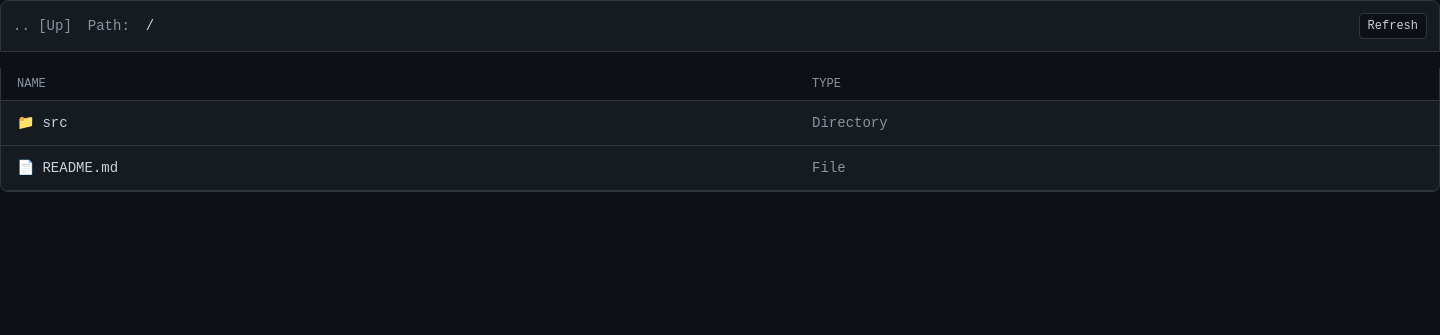
it: FileBrowser › loads and displays file content when a file is selected
Click the text "README.md": click(80, 168) [42,158,118,178]
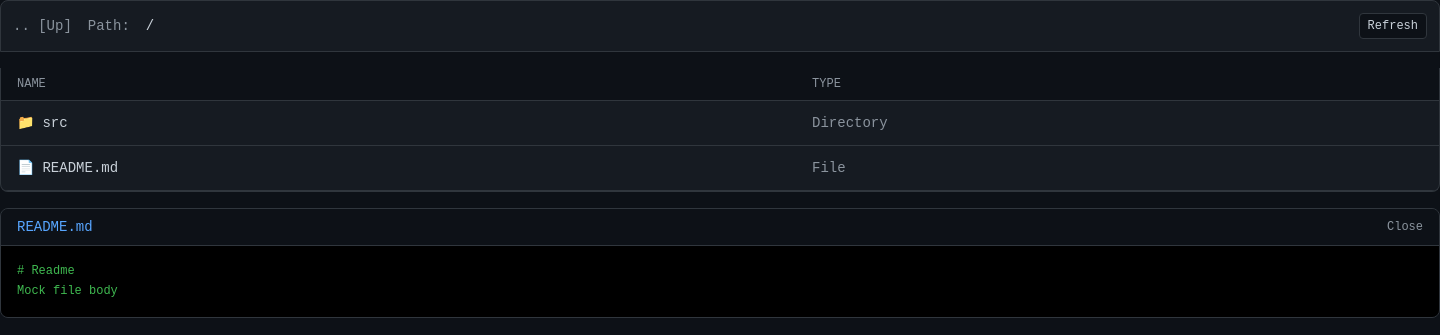
Expected: the text "# Readme Mock file body" is shown, [17,264,118,298]
